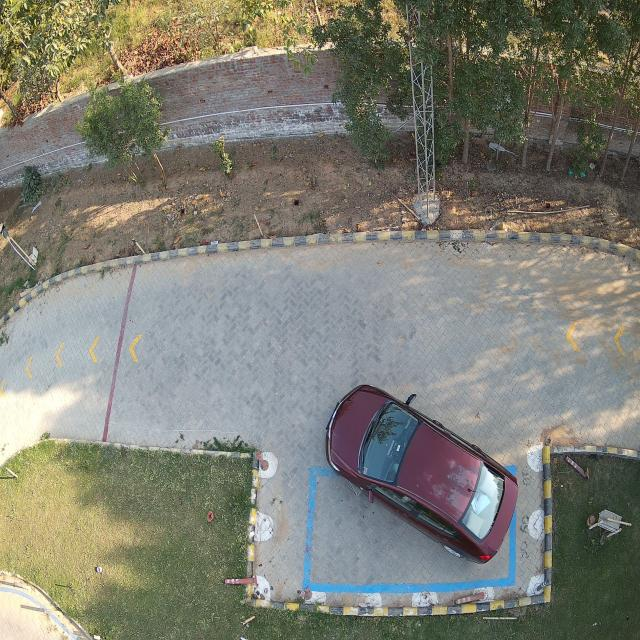car: (325, 385, 518, 563)
